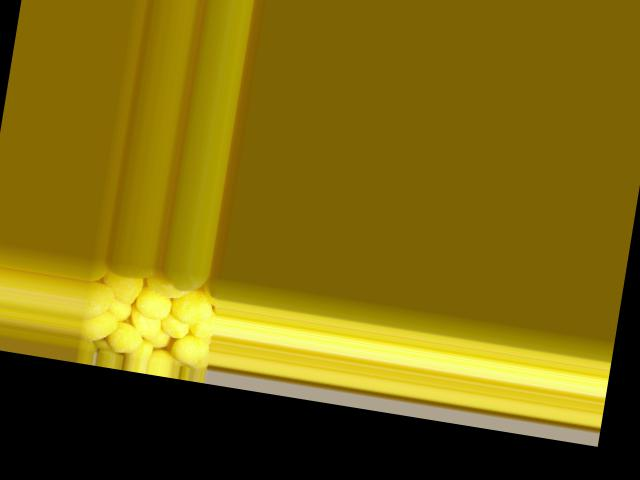lemon: (97, 319, 147, 358)
